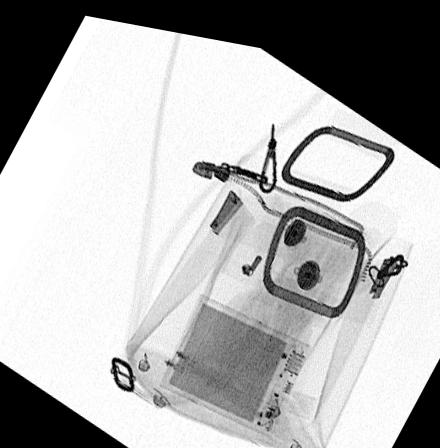Powerbank: (157, 286, 312, 429)
